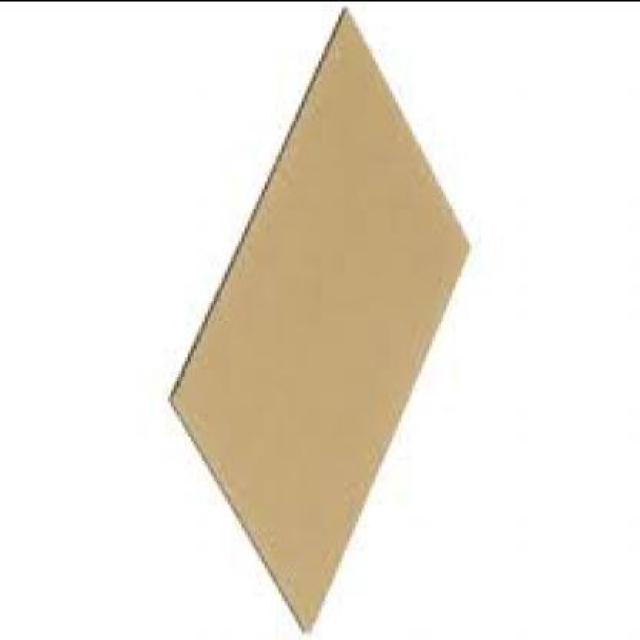CARDBOARD: (174, 9, 475, 637)
